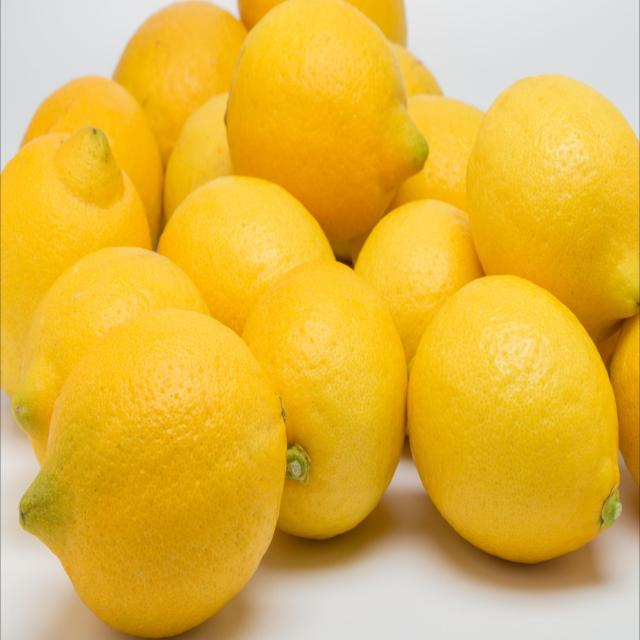lemon: (15, 307, 292, 640), (399, 268, 629, 574)
